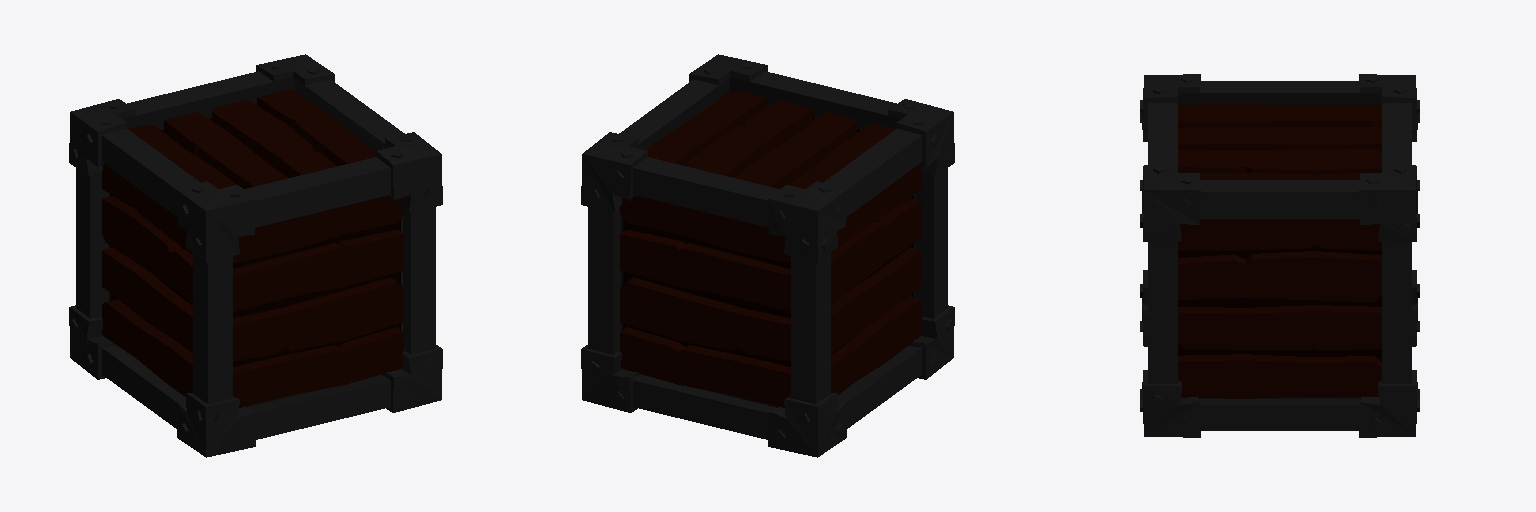
The model's file is kasa.obj.
3 renders of one model, left to right at view 1: azimuth 30°, elevation 25°; view 2: azimuth 150°, elevation 25°; view 3: azimuth 270°, elevation 25°, orthographic.
Visible parts, largest first — view 1: Hierro_Cube.001, Tablas_Cube, madera_fondo_Cube.002; view 2: Hierro_Cube.001, Tablas_Cube, madera_fondo_Cube.002; view 3: Tablas_Cube, Hierro_Cube.001, madera_fondo_Cube.002.
Part boxes in pixels (bbox=[...]): Hierro_Cube.001: bbox=[69, 54, 442, 457]; Tablas_Cube: bbox=[102, 89, 403, 407]; madera_fondo_Cube.002: bbox=[110, 118, 400, 402]; Hierro_Cube.001: bbox=[581, 54, 954, 457]; Tablas_Cube: bbox=[620, 92, 921, 407]; madera_fondo_Cube.002: bbox=[623, 107, 913, 402]; Tablas_Cube: bbox=[1178, 104, 1381, 398]; Hierro_Cube.001: bbox=[1140, 74, 1419, 437]; madera_fondo_Cube.002: bbox=[1178, 245, 1381, 396].
Size of the model in its own units: 2.12 by 2.12 by 2.12.